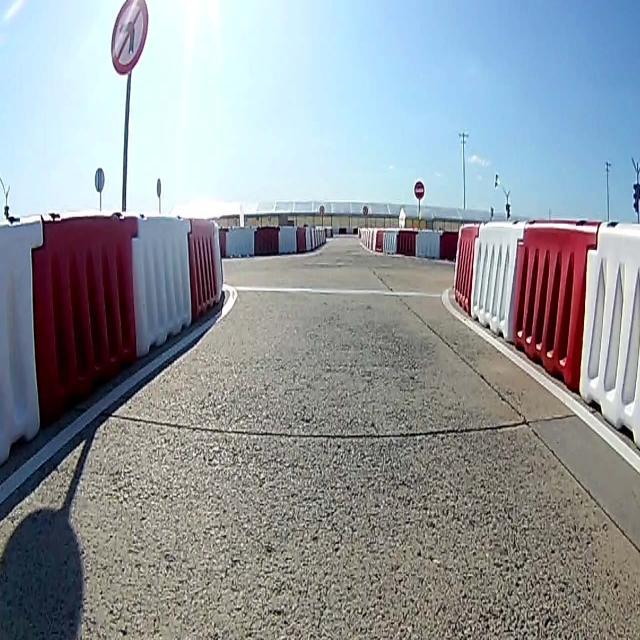girisyok: (413, 180, 425, 199)
soladonulmez: (111, 2, 147, 71)
